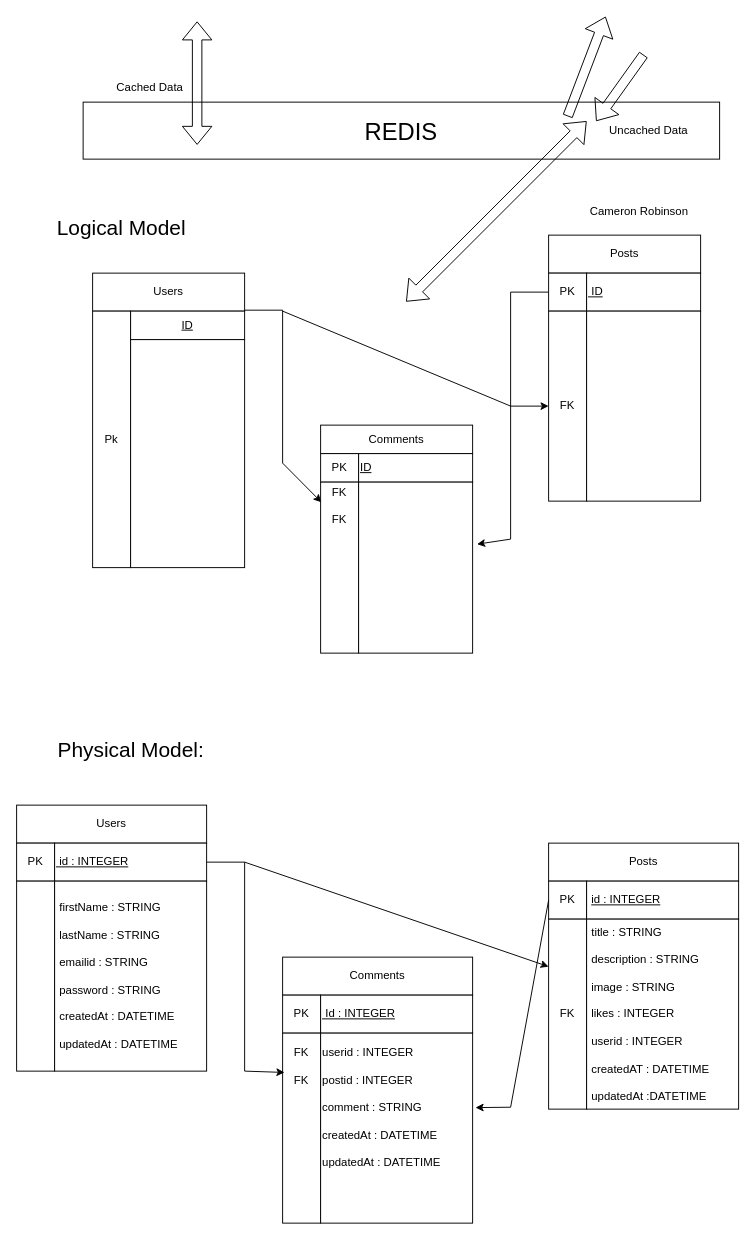
The diagram is 755 pixels wide and 1240 high, and some of its shapes have lost their labels. The centre of each missing label's shape, as x and y in pixels:
"First Name Last Name Email Password Date Date Created" goes at [187,453].
"Title Description Image Likes User ID Date Created Date Updated" goes at [643,405].
"User ID Post ID Comment Date Created Date Updated" goes at [415,567].
